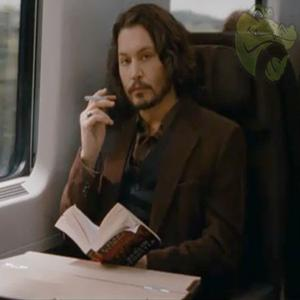cigarette: (83, 93, 117, 101)
